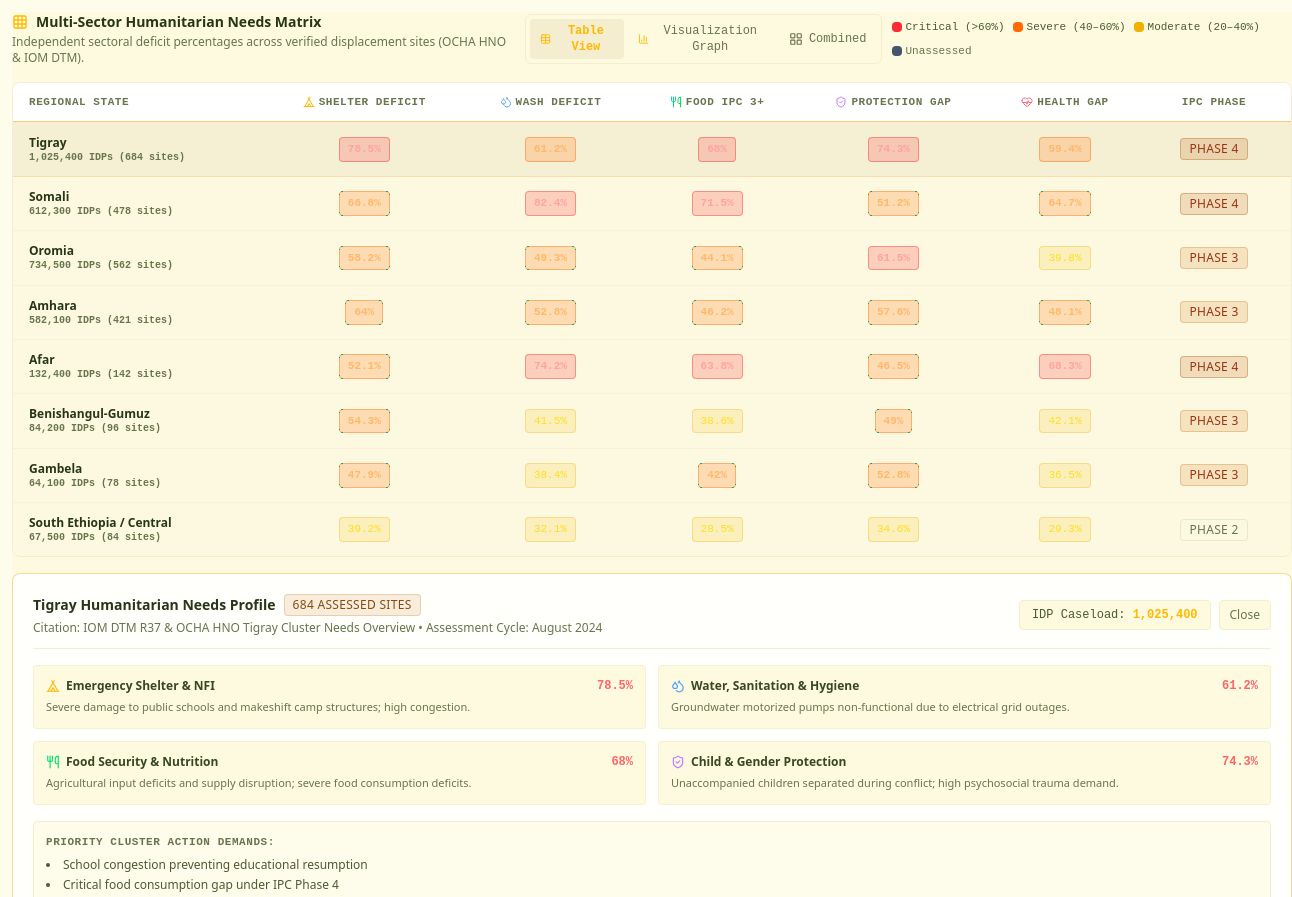
Sectoral Humanitarian Needs: Components & Logic › renders ZonalNeedsMatrix with sector columns, IPC phases, and regional details
The image size is (1292, 897).
Expected: the text "Multi-Sector Humanitarian Needs Matrix" is shown, [36,12,321,32]
Expected: the text "Shelter Deficit" is shown, [319,95,426,110]
Click Somali to inspect details
Click the text "Somali": coordinates (49, 196) [29,188,69,205]
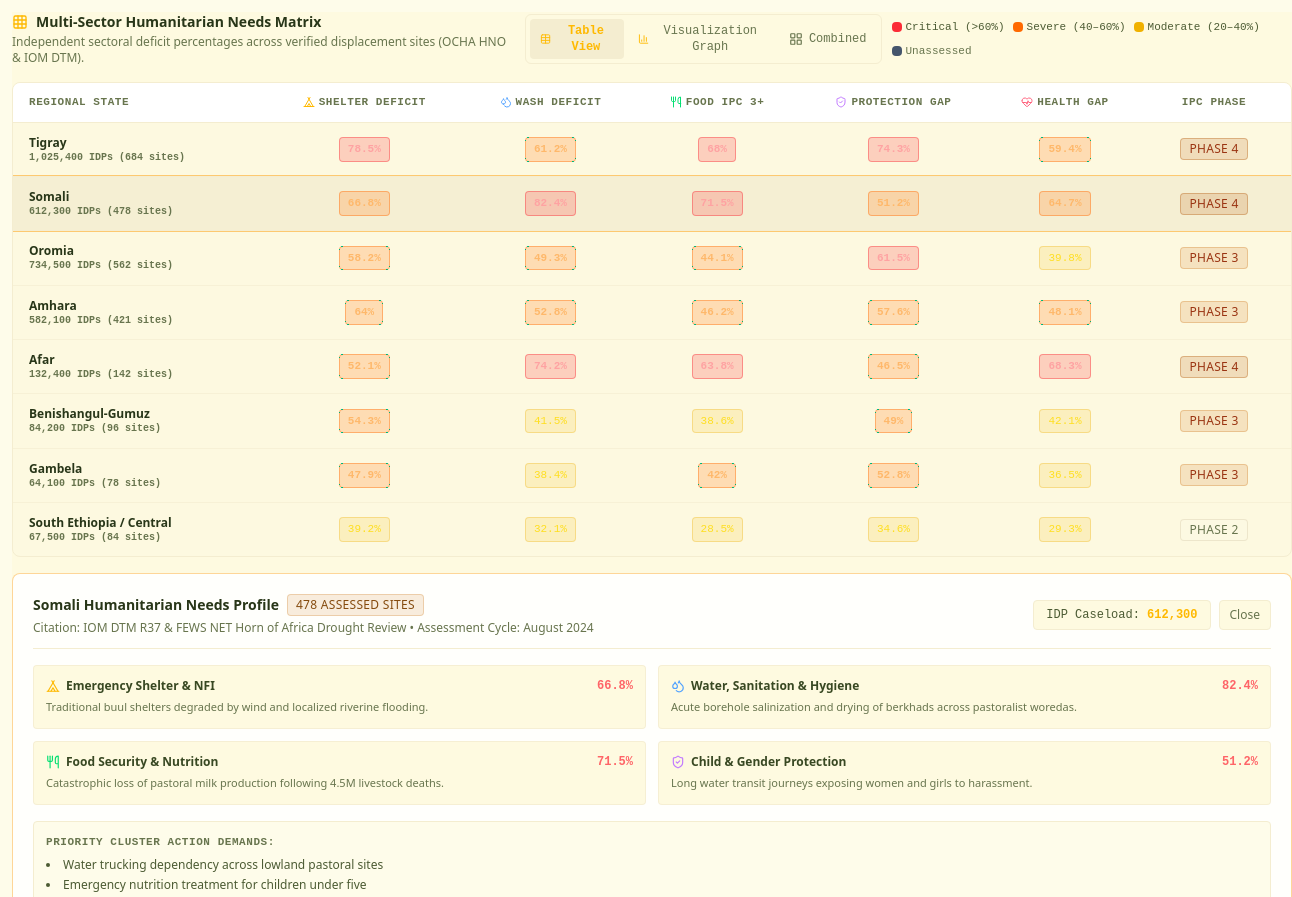
Expected: the heading "Somali Humanitarian Needs Profile" is shown, [33,595,279,615]
Expected: the list item "Water trucking dependency across lowland pastoral sites" is shown, [63,856,383,872]
